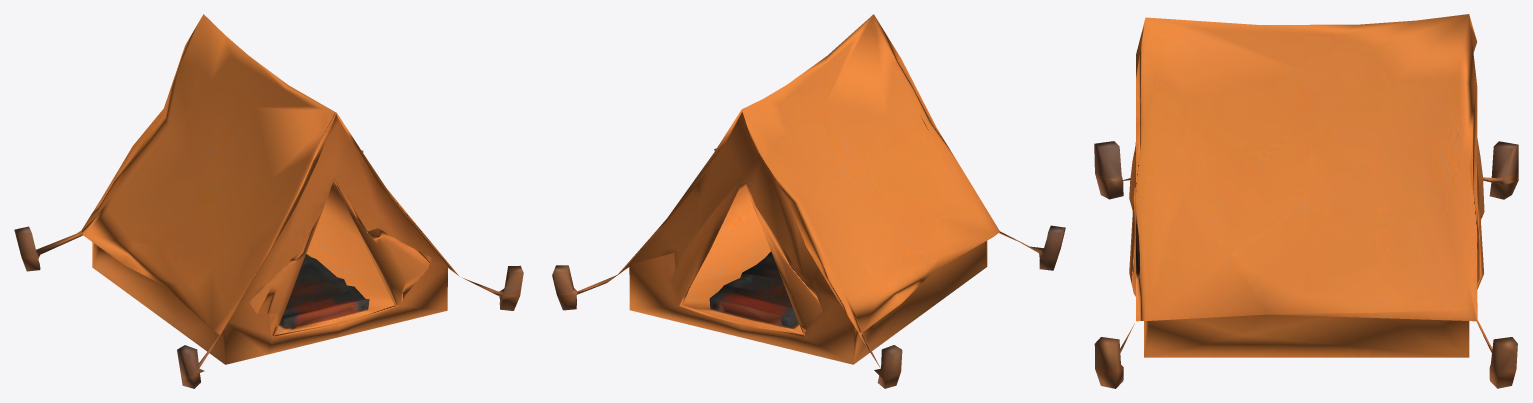
File: tent.glb
3 views of the same model, side by side, from view 1: azimuth 30°, elevation 25°; view 2: azimuth 150°, elevation 25°; view 3: azimuth 270°, elevation 25° (orthographic). The views are drawn at different scales.
Visible parts, largest first — view 1: tripo_node_dcddacf6-494a-4fd4-9971-364826e6032e; view 2: tripo_node_dcddacf6-494a-4fd4-9971-364826e6032e; view 3: tripo_node_dcddacf6-494a-4fd4-9971-364826e6032e.
Boxes of the visible parts, x1,y1,x2,y2 form: tripo_node_dcddacf6-494a-4fd4-9971-364826e6032e: [14, 14, 523, 388]; tripo_node_dcddacf6-494a-4fd4-9971-364826e6032e: [552, 14, 1065, 388]; tripo_node_dcddacf6-494a-4fd4-9971-364826e6032e: [1094, 14, 1518, 388].
Bounding box in the file's own units: 2.54 × 1.6 × 2.22.
Materials: 1 (1 with a texture image).
